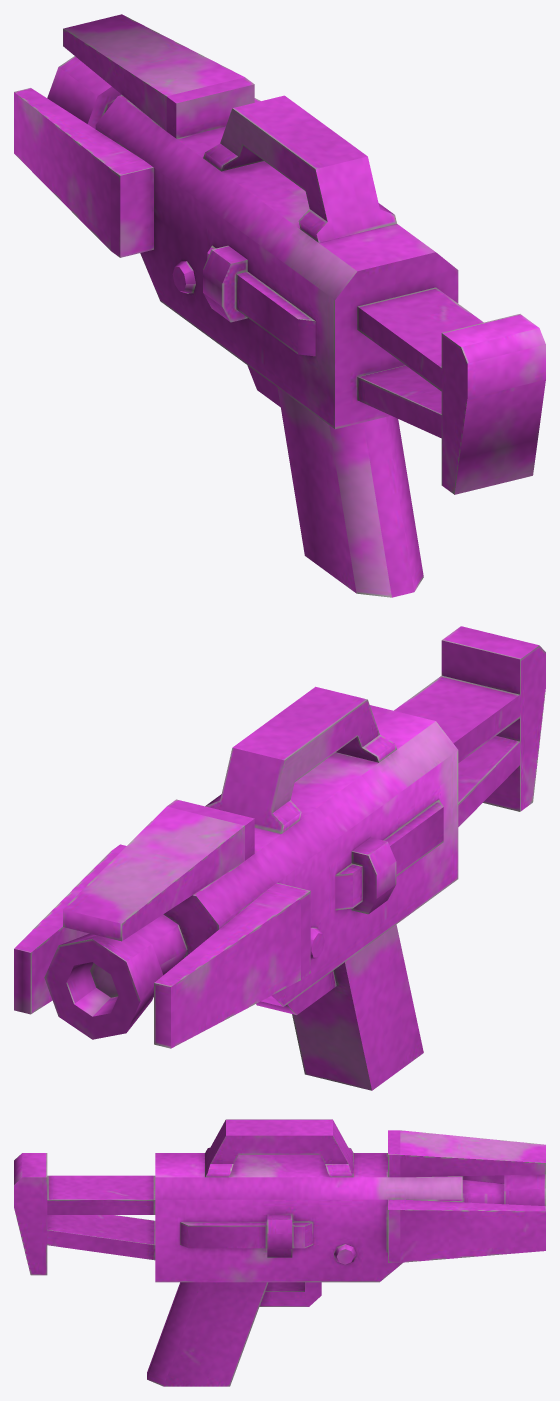
File: blaster-n.glb
3 views of the same model, one above another, from view 1: azimuth 30°, elevation 25°; view 2: azimuth 150°, elevation 25°; view 3: azimuth 270°, elevation 25° (orthographic). The views are drawn at different scales.
Parts seen in each view (by area): view 1: blaster-n; view 2: blaster-n; view 3: blaster-n.
Part boxes in pixels (x1,y1,x2,y2): blaster-n: (14,14,545,597); blaster-n: (14,626,545,1090); blaster-n: (14,1119,545,1386).
Bounding box in the file's own units: 0.17 × 0.33 × 0.6401.
1 material, 1 textured.
